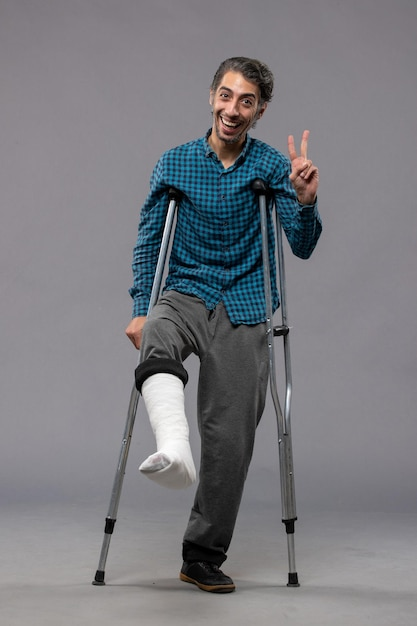crutches: (93, 56, 322, 595)
